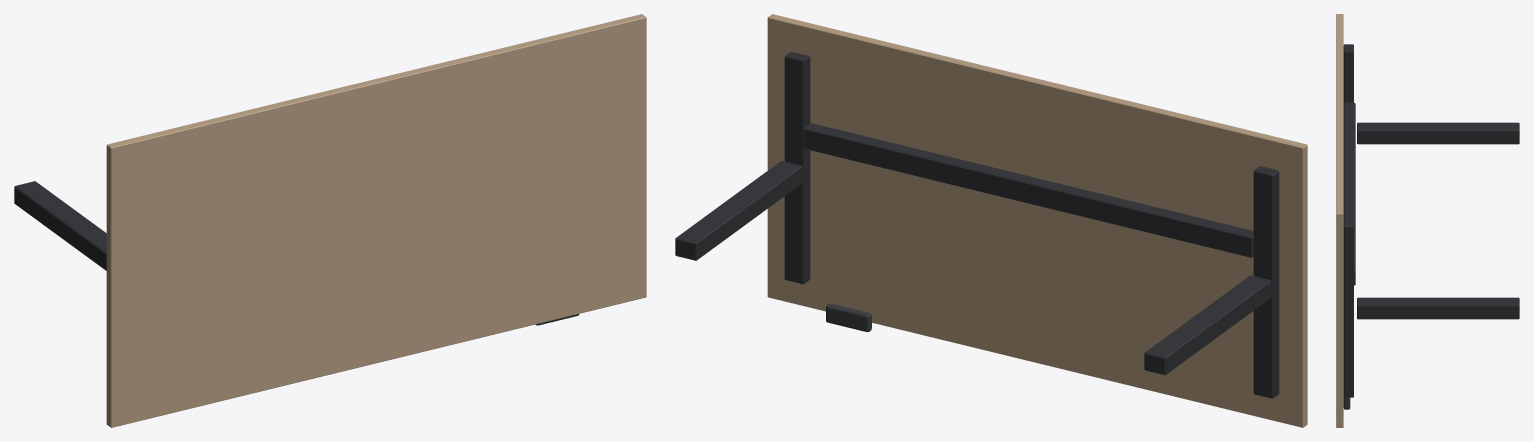
Rendered from sit_stand_desk_lift.glb.
3 renders of one model, left to right at view 1: azimuth 30°, elevation 25°; view 2: azimuth 150°, elevation 25°; view 3: azimuth 270°, elevation 25°, orthographic. The views are drawn at different scales.
Visible parts, largest first — view 1: export_tmp; view 2: export_tmp; view 3: export_tmp.
Part boxes in pixels (x1,y1,x2,y2): export_tmp: (14,14,646,427); export_tmp: (675,14,1307,427); export_tmp: (1336,14,1519,427).
Bounding box in the file's own units: 1.6 × 0.82 × 0.62.
